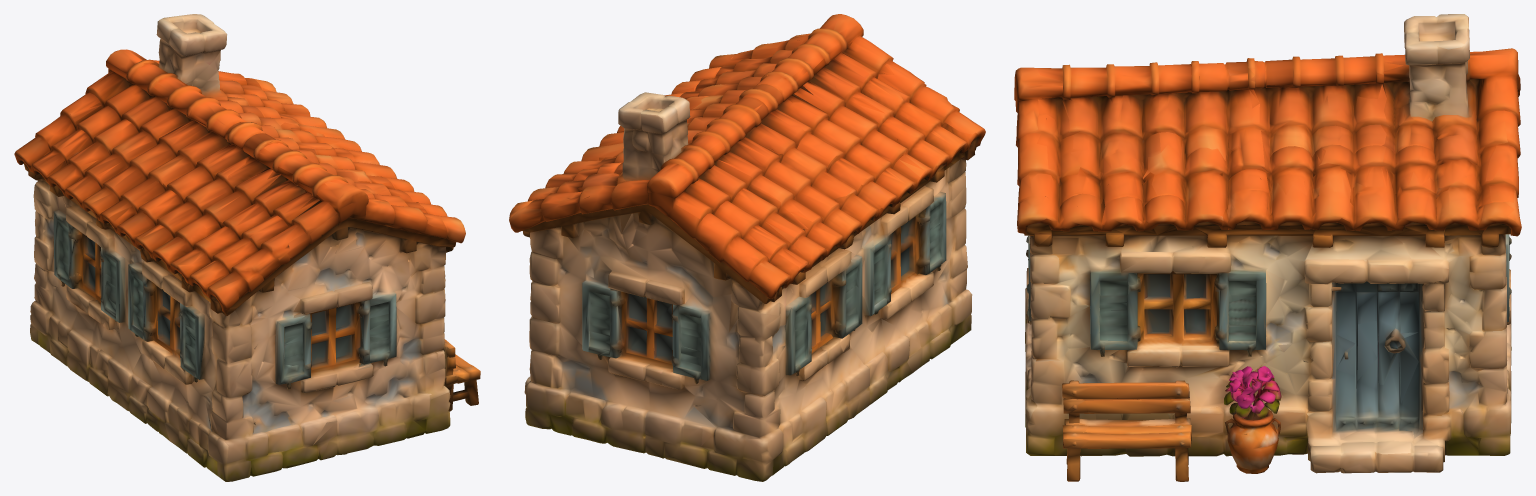
Rendered from Piece15.fbx.
3 views of the same model, side by side, from view 1: azimuth 30°, elevation 25°; view 2: azimuth 150°, elevation 25°; view 3: azimuth 270°, elevation 25° (orthographic). The views are drawn at different scales.
Visible parts, largest first — view 1: Piece15; view 2: Piece15; view 3: Piece15.
Part boxes in pixels (x1,y1,x2,y2): Piece15: [14, 14, 480, 481]; Piece15: [509, 14, 985, 481]; Piece15: [1014, 14, 1521, 481].
Bounding box in the file's own units: 79.85 × 81.65 × 100.
Materials: 1 (1 with a texture image).
